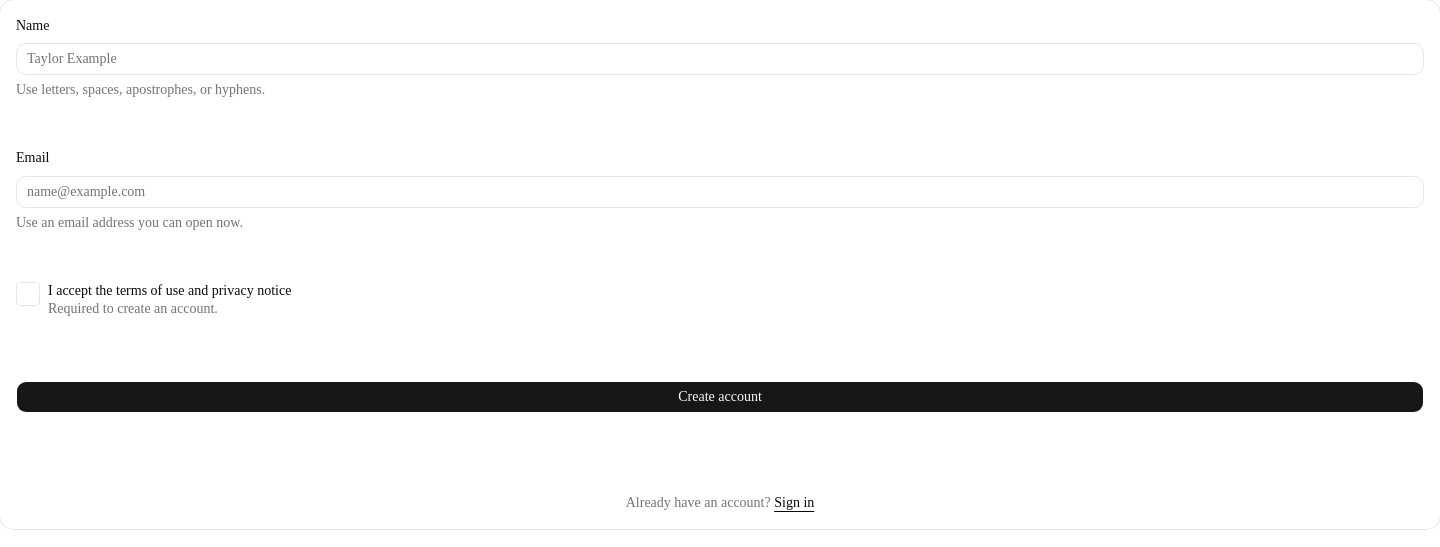
Test: SignupForm core flow › shows every client field error and focuses the first invalid control
Click the button "Create account".
click(720, 397)  # box [16,381,1424,413]
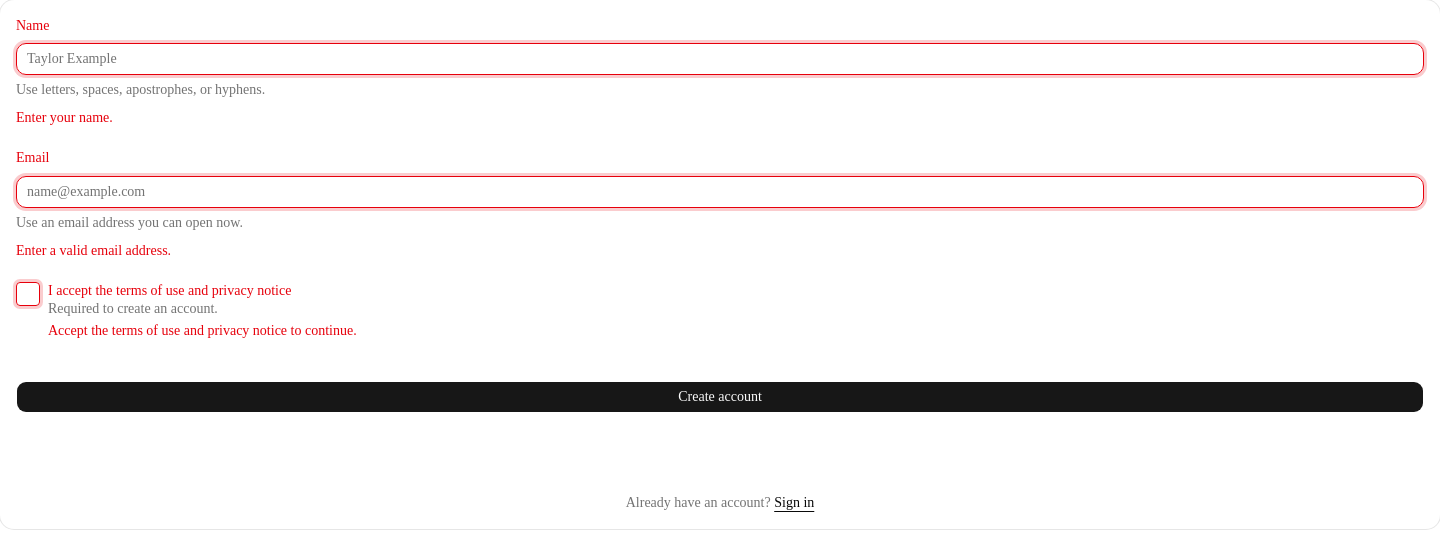
Result: the text "Enter your name." is shown at [16,110,113,125]
Result: the text "Enter a valid email address." is shown at [16,242,171,258]
Result: the text "Accept the terms of use and privacy notice to continue." is shown at [48,323,357,338]
